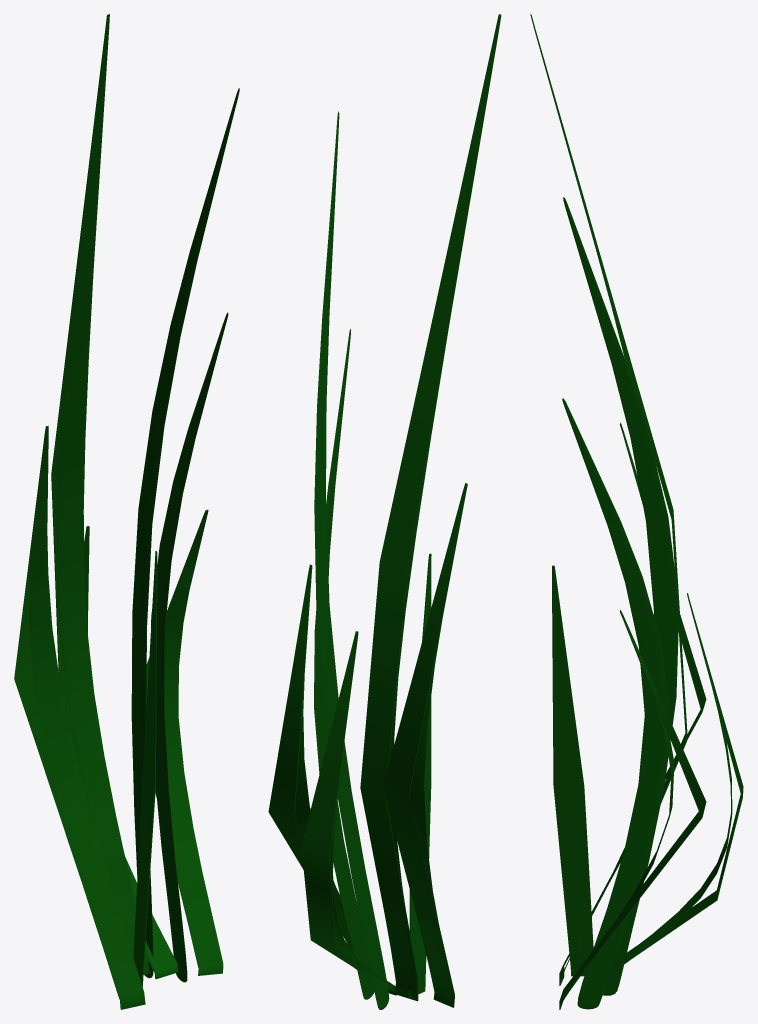
The model's file is seaweed-final.fbx.
The picture shows the model from 3 angles, left to right: view 1: azimuth 30°, elevation 25°; view 2: azimuth 150°, elevation 25°; view 3: azimuth 270°, elevation 25°; orthographic projection. The views are drawn at different scales.
Visible parts, largest first — view 1: pCube9, pCube12, pCube8, pCube7, pCube5, pCube3 (×2), pCube4, pCube6, pCube11, pCube2; view 2: pCube4, pCube12, pCube5, pCube2, pCube3 (×2), pCube7, pCube8, pCube9, pCube6, pCube10, pCube11; view 3: pCube7, pCube3 (×2), pCube12, pCube4, pCube2, pCube10, pCube5, pCube6, pCube11.
Boxes of the visible parts, <box> form: pCube9: <box>57,122,123,860</box>; pCube12: <box>131,88,239,978</box>; pCube8: <box>29,432,119,999</box>; pCube7: <box>151,312,228,982</box>; pCube5: <box>14,425,145,1009</box>; pCube3 (×2): <box>133,509,223,986</box>; pCube4: <box>51,14,149,974</box>; pCube6: <box>164,514,206,967</box>; pCube11: <box>139,556,156,972</box>; pCube2: <box>84,526,178,979</box>; pCube4: <box>360,14,501,1001</box>; pCube12: <box>314,111,389,1009</box>; pCube5: <box>383,483,467,1007</box>; pCube2: <box>301,631,396,995</box>; pCube3 (×2): <box>268,553,431,998</box>; pCube7: <box>314,329,374,999</box>; pCube8: <box>409,580,453,1002</box>; pCube9: <box>385,26,497,992</box>; pCube6: <box>294,617,352,951</box>; pCube10: <box>329,636,395,991</box>; pCube11: <box>409,559,430,931</box>; pCube7: <box>562,398,669,1009</box>; pCube3 (×2): <box>552,565,706,1009</box>; pCube12: <box>563,197,679,995</box>; pCube4: <box>530,14,687,803</box>; pCube2: <box>609,593,743,973</box>; pCube10: <box>609,598,732,975</box>; pCube5: <box>559,422,706,985</box>; pCube6: <box>560,659,674,1004</box>; pCube11: <box>569,912,593,970</box>.
Size of the model in its own units: 3.79 by 22.53 by 4.59.
